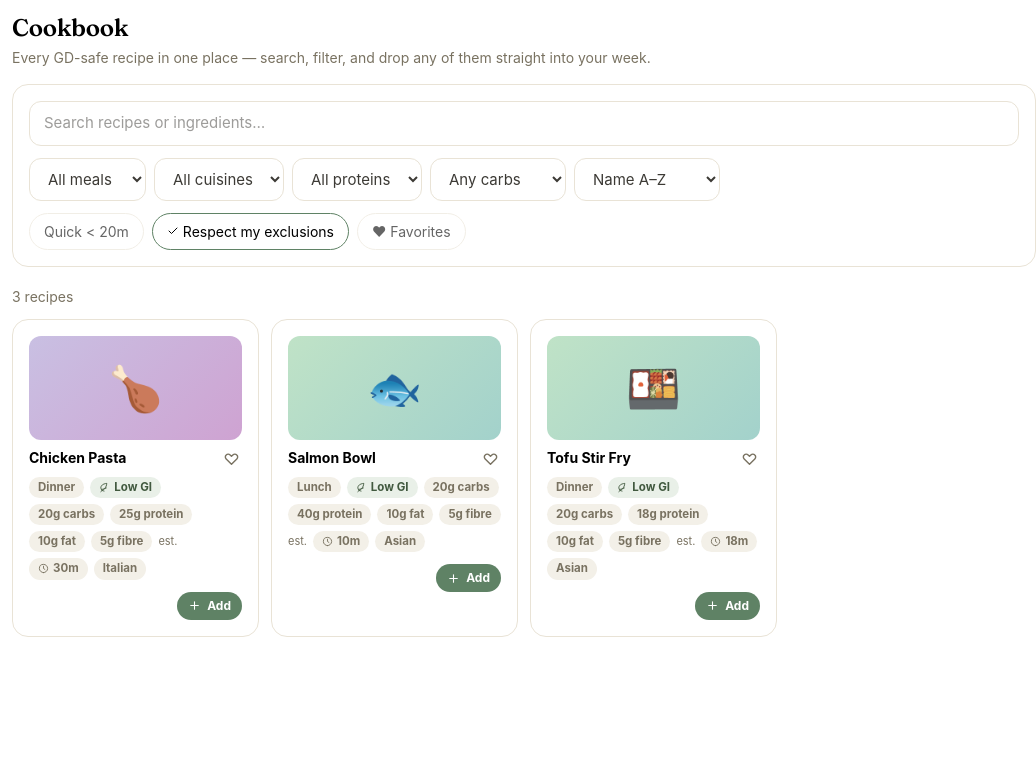
Test: CookbookTab › filters by meal type
Select "lunch" in the dropdown named "Filter by meal type". click: {"x": 88, "y": 179}
box: [29, 158, 146, 200]
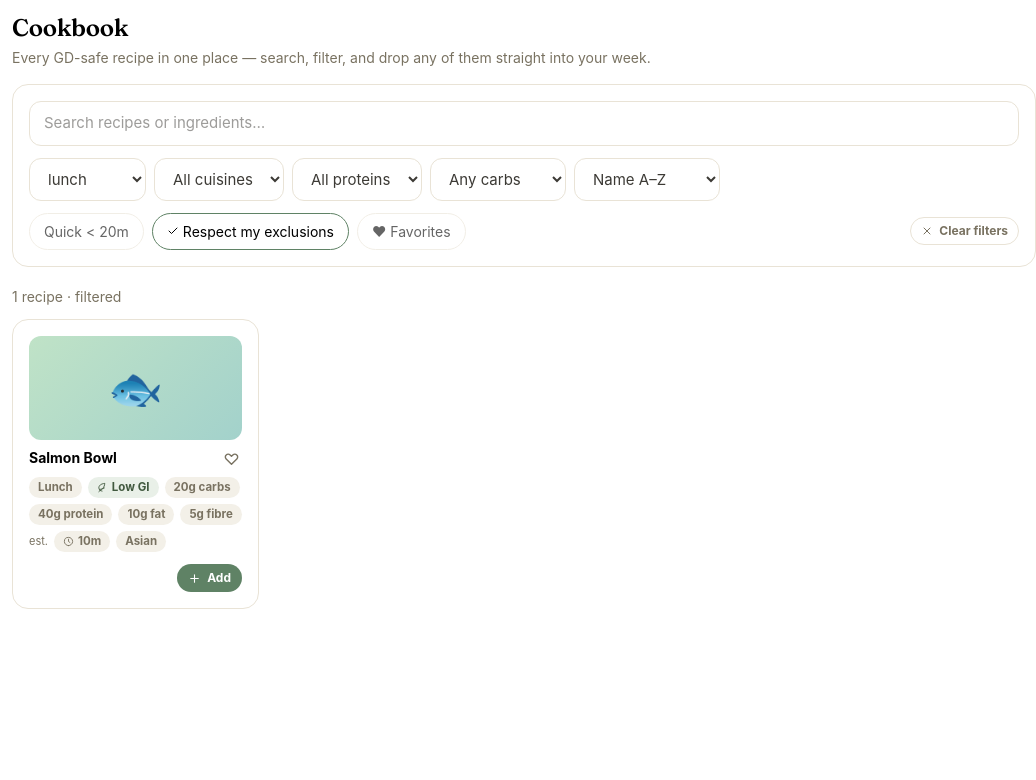
Expected: the text "Salmon Bowl" is shown, [29, 448, 117, 467]
Now the text "Chicken Pasta" is gone
